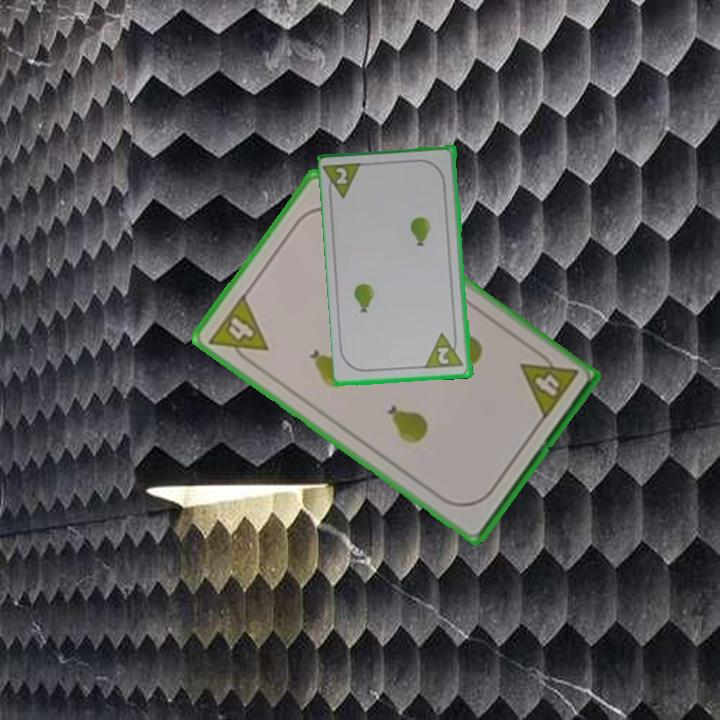2p: (322, 159, 367, 203), (423, 329, 467, 372)
4p: (204, 290, 271, 371), (516, 345, 581, 423)
